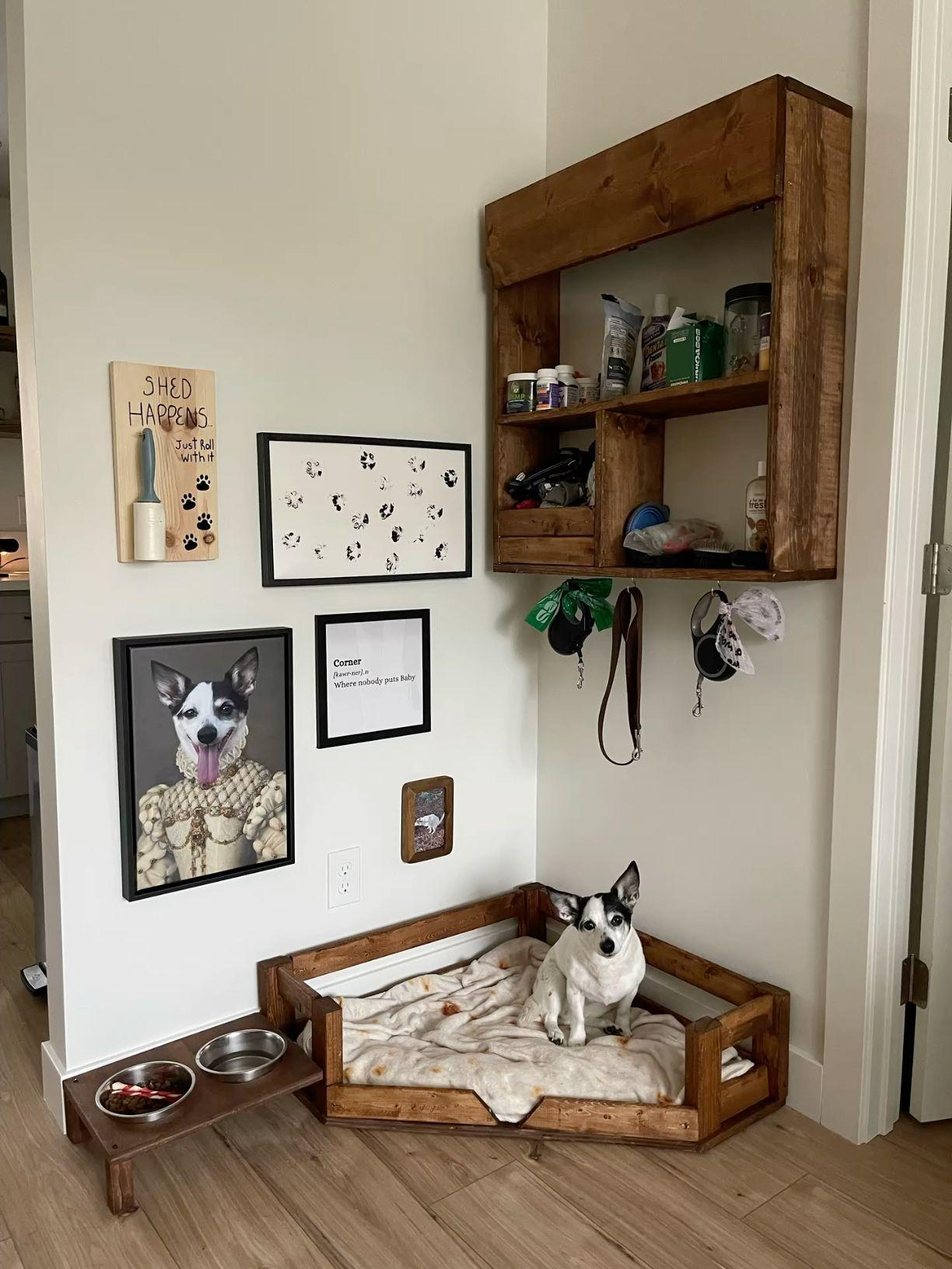adult_dog: (516, 860, 647, 1048)
